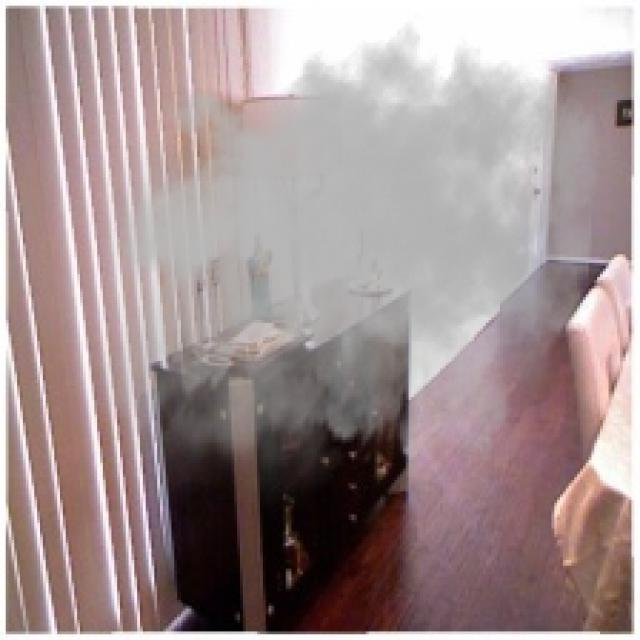Smoke: (74, 6, 603, 523)
